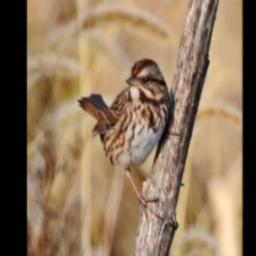Sparrow: (76, 56, 173, 222)
